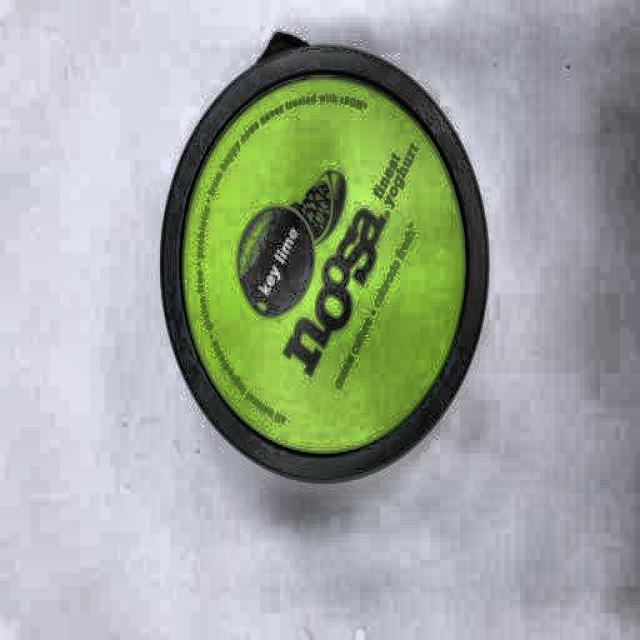plastic: (162, 27, 490, 490)
